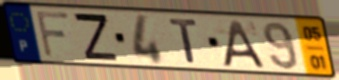4: (131, 12, 166, 67)
9: (260, 20, 301, 72)
A: (221, 19, 267, 70)
F: (34, 9, 72, 59)
T: (167, 18, 200, 66)
Z: (70, 11, 121, 63)
